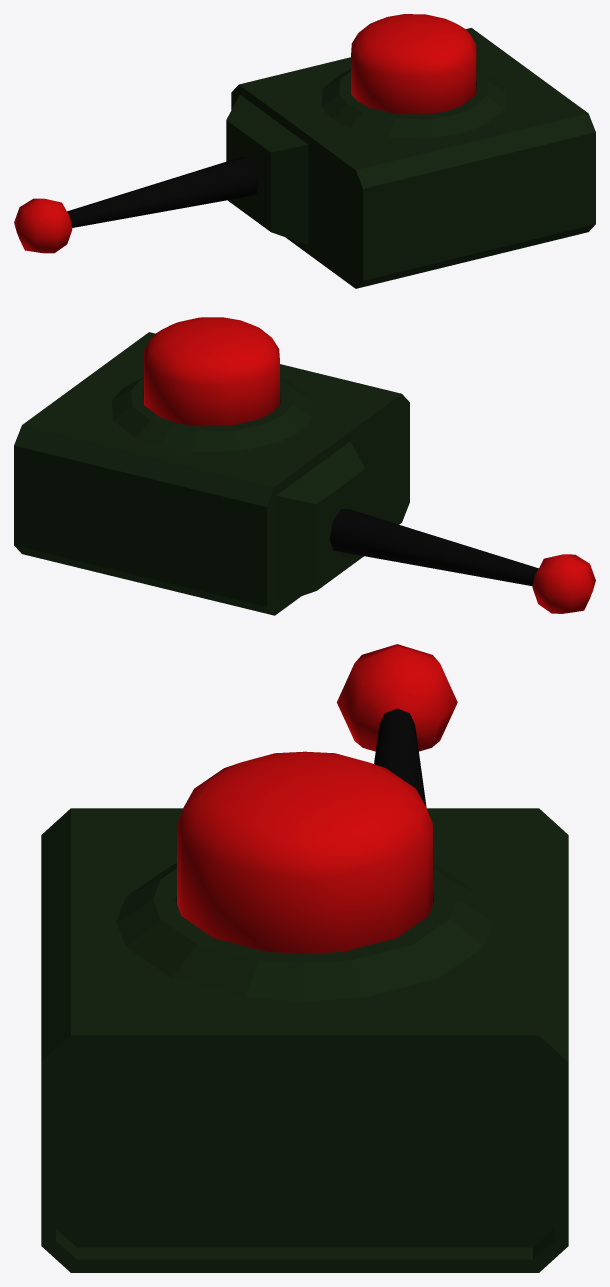
The model's file is bigredbutton.obj.
3 renders of one model, top to bottom at view 1: azimuth 30°, elevation 25°; view 2: azimuth 150°, elevation 25°; view 3: azimuth 270°, elevation 25°, orthographic. The views are drawn at different scales.
Visible parts, largest first — view 1: Cube, Cube.001; view 2: Cube, Cube.001; view 3: Cube, Cube.001.
Part boxes in pixels (x1,y1,x2,y2): Cube: (14, 28, 595, 288); Cube.001: (351, 14, 476, 114); Cube: (14, 332, 595, 615); Cube.001: (144, 317, 279, 426); Cube: (41, 644, 568, 1272); Cube.001: (177, 751, 432, 953).
Size of the model in its own units: 5.14 by 1.92 by 2.39.
